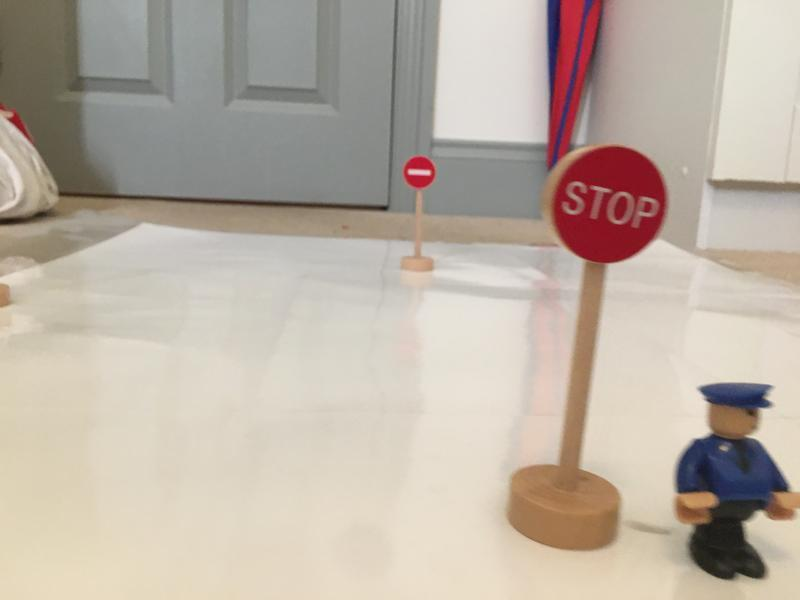Traffic_Sign_No_Entry: (403, 155, 435, 192)
Traffic_Sign_Stop: (548, 143, 670, 269)
person: (670, 377, 800, 590)
